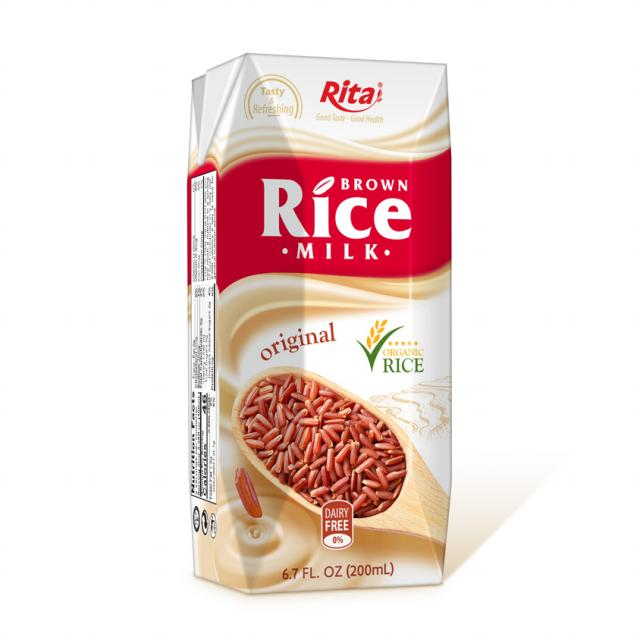non_white_jug: (168, 52, 474, 594)
